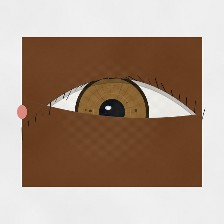hemorrhage_spot: (63, 89, 153, 161)
